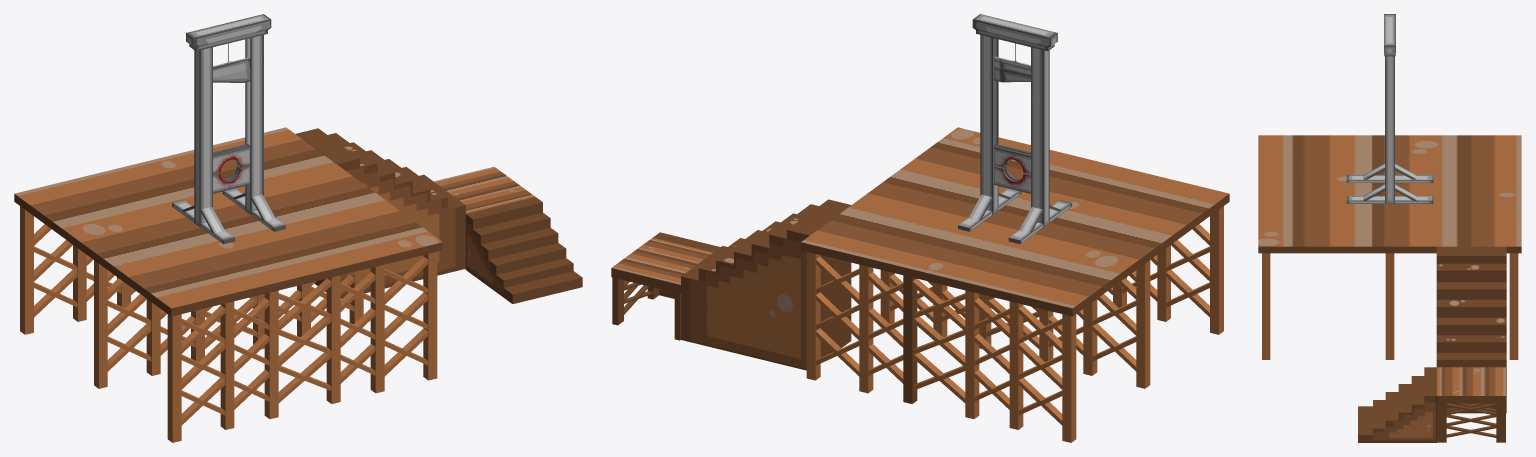
The model's file is guillitine.fbx.
3 views of the same model, side by side, from view 1: azimuth 30°, elevation 25°; view 2: azimuth 150°, elevation 25°; view 3: azimuth 270°, elevation 25° (orthographic). The views are drawn at different scales.
Visible parts, largest first — view 1: pCube21, pCube120, pCube99, pCube7, pCube121, pCube107, pCube22, pCube11, pCube83, pCube62, pCube25, pCube27 (+29 smaller); view 2: pCube21, pCube99, pCube107, pCube7, pCube121, pCube83, pCube62, pCube11, pCube22, pCube80, pCube81, pCube79 (+28 smaller); view 3: pCube21, pCube99, pCube120, pCube107, pCube119, pCube121, pCube60, pCube81, pCube27, pCube124, pCube18, pCube11 (+2 smaller).
Boxes of the visible parts, x1,y1,x2,y2 form: pCube21: (14,127,442,316); pCube120: (465,197,582,303); pCube99: (296,128,465,298); pCube7: (194,47,212,227); pCube121: (245,35,263,215); pCube107: (434,166,535,213); pCube22: (167,314,181,442); pCube11: (186,14,271,51); pCube83: (20,206,33,334); pCube62: (94,260,107,388); pCube25: (326,275,340,403); pCube27: (423,252,437,380); pCube21: (801,127,1229,316); pCube99: (681,199,851,370); pCube107: (611,237,712,293); pCube7: (1031,47,1049,227); pCube121: (980,35,998,215); pCube83: (1062,314,1076,442); pCube62: (1136,260,1150,388); pCube11: (972,14,1057,51); pCube22: (1210,206,1223,334); pCube80: (903,275,917,403); pCube81: (806,252,820,380); pCube79: (1009,301,1023,429); pCube21: (1258,135,1521,253); pCube99: (1436,246,1506,413); pCube120: (1358,367,1436,442); pCube107: (1437,367,1505,403); pCube119: (1437,403,1505,442); pCube121: (1385,56,1394,203); pCube60: (1385,253,1394,359); pCube81: (1509,253,1518,359); pCube27: (1262,253,1270,359); pCube124: (1346,196,1433,203); pCube18: (1346,175,1433,182); pCube11: (1384,14,1395,56).
Bounding box in the file's own units: 53.29 × 35.57 × 30.78.
